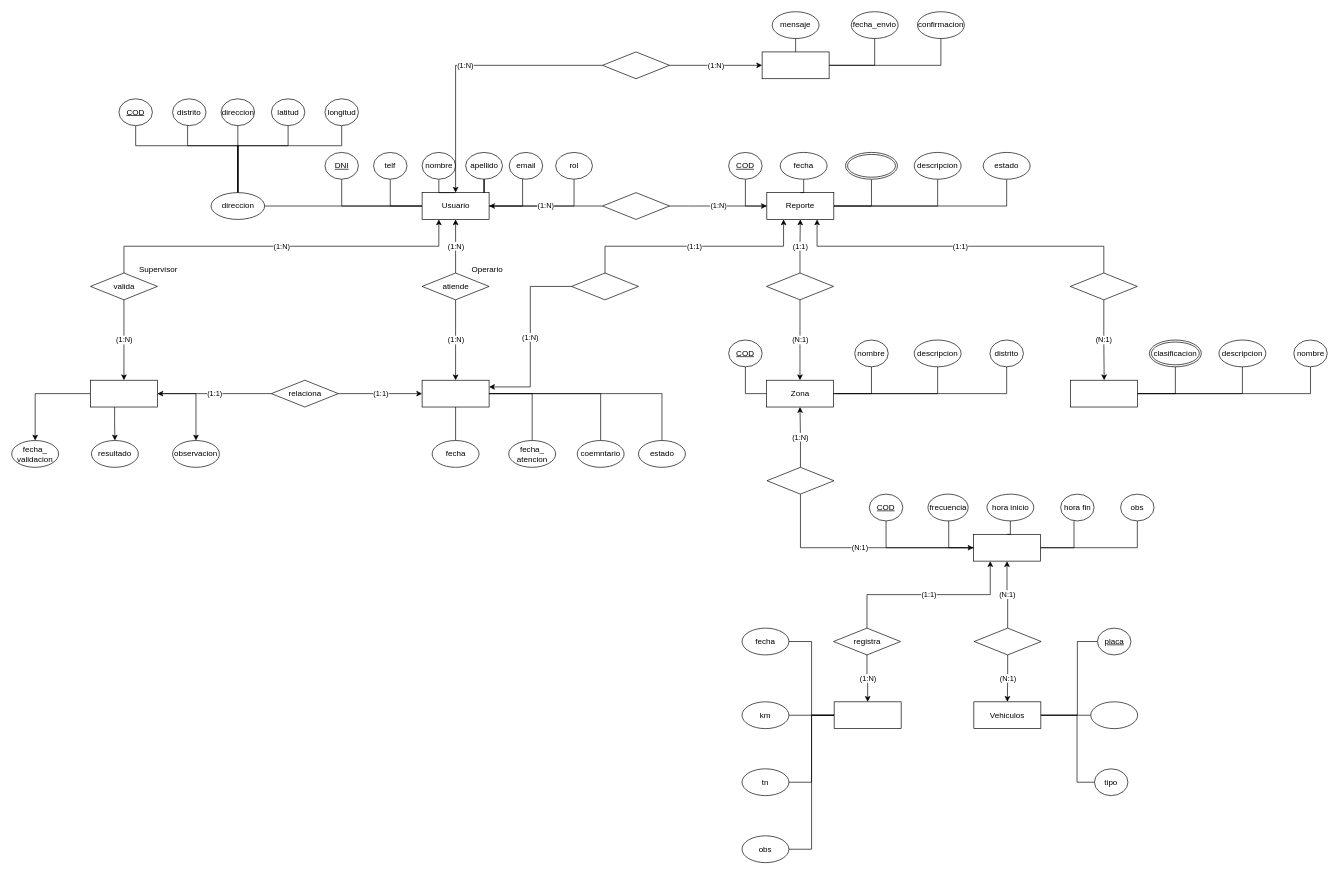
Image size: 1339x874. Some labels were removed from this diagram. Here are the shapes that lost their labels. From the top down, the centre of each, then its label:
the point at 636,65: recibe
the point at 795,65: Notificacion
the point at 871,165: foto
the point at 636,205: reporta
the point at 605,286: asigna
the point at 799,286: ubicado en
the point at 1103,286: clasifica como
the point at 123,393: Validacion
the point at 455,393: Atencion_ Incidencia
the point at 1104,393: Tipo_Residuo
the point at 800,480: pertenece
the point at 1007,547: Ruta
the point at 1007,641: asgina
the point at 867,715: Historial_ Recoleccion
the point at 1114,715: capacidad
